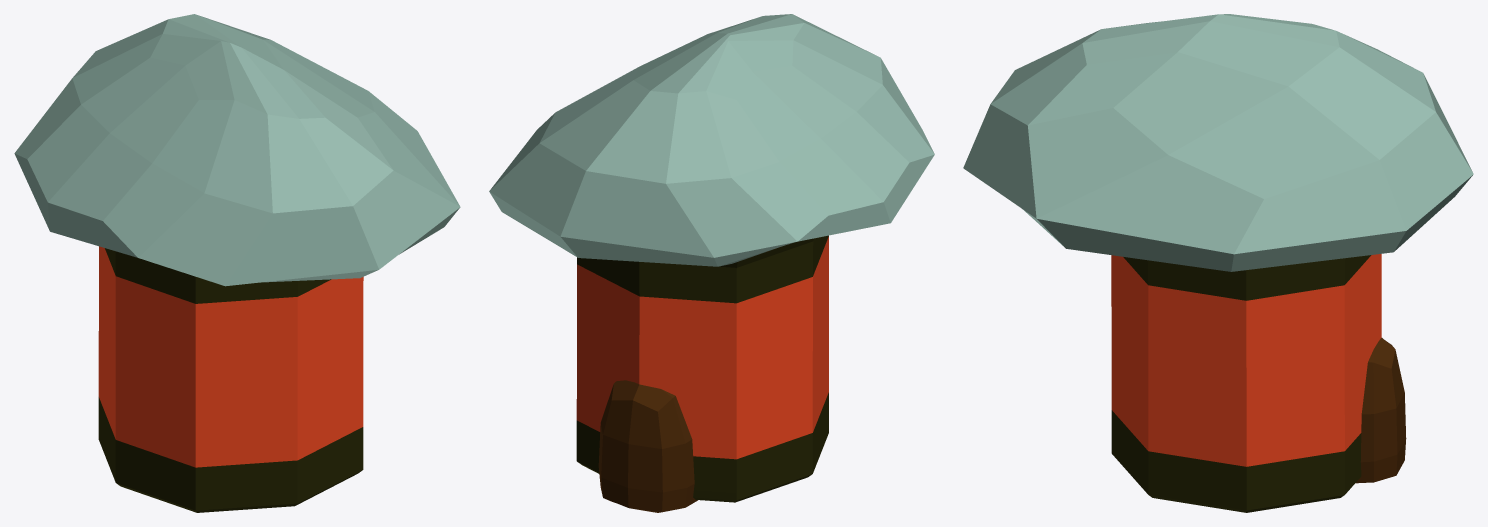
Rendered from building_woodworker.fbx.
3 renders of one model, left to right at view 1: azimuth 30°, elevation 25°; view 2: azimuth 150°, elevation 25°; view 3: azimuth 270°, elevation 25°, orthographic. The views are drawn at different scales.
Parts seen in each view (by area): view 1: Cube; view 2: Cube; view 3: Cube.
Boxes of the visible parts, x1,y1,x2,y2 form: Cube: (14,14,460,512); Cube: (489,14,934,512); Cube: (963,14,1473,512).
Size of the model in its own units: 540 by 611 by 637.
